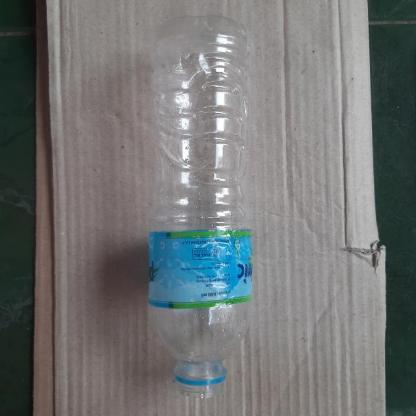Plastic Bottle: (105, 4, 275, 394)
